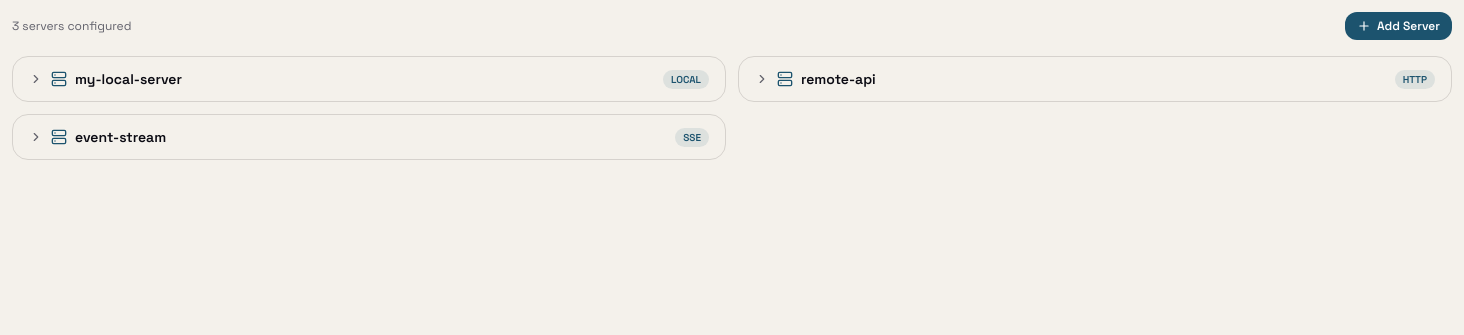
Test case: McpEditorPanel › shows URL for HTTP servers
What coordinates should you click on to do the following:
click the text "remote-api"
I would click on:
 (838, 79)
Its box is [801,69,876,89].
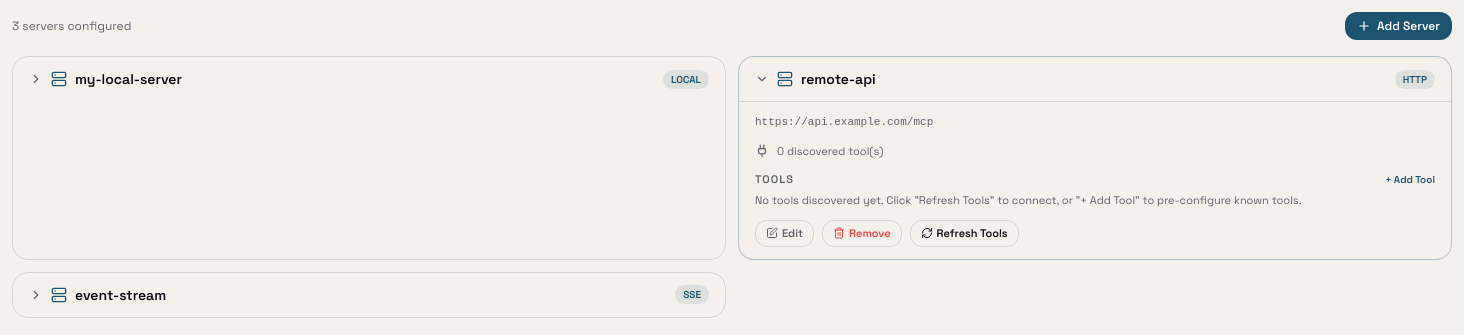
Expected: the text "https://api.example.com/mcp" is shown, [755,116,933,128]
